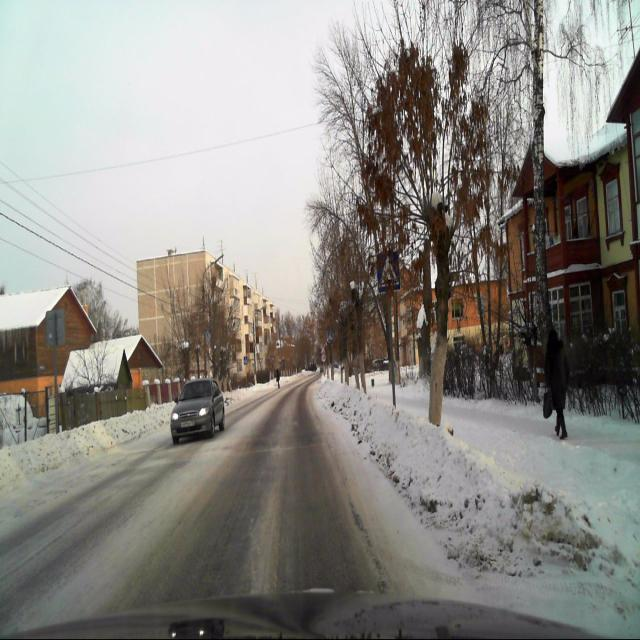object: (387, 296, 396, 406)
road sign: (376, 252, 400, 292)
